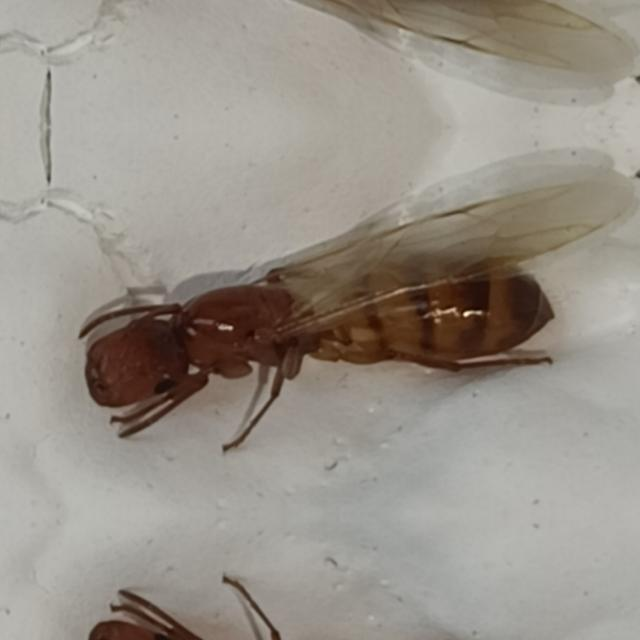Colobopsis: (26, 213, 606, 449), (24, 576, 606, 640)
